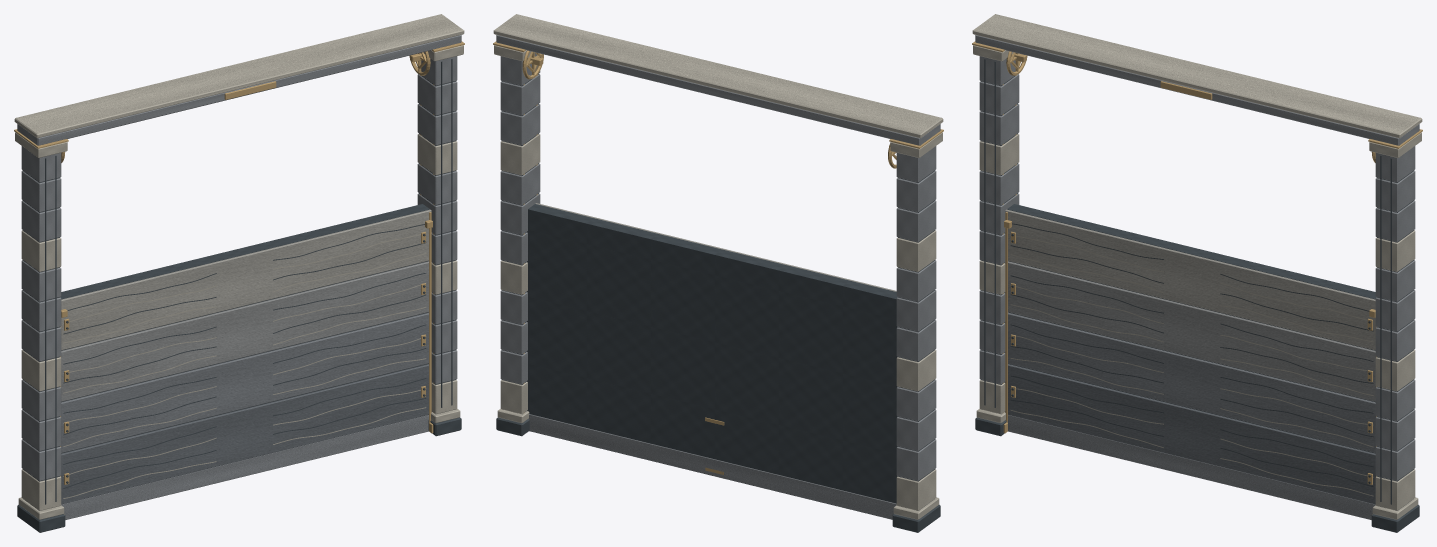
File: chronicle-portal-v01.glb
3 views of the same model, side by side, from view 1: azimuth 30°, elevation 25°; view 2: azimuth 150°, elevation 25°; view 3: azimuth 330°, elevation 25° (orthographic).
Parts seen in each view (by area): view 1: Dressed pier course.025, Dressed pier course.024, Sedimentary layer 1.001, Sedimentary layer 2.001, Sedimentary layer 0.001, Sedimentary layer 3.001, Carved sediment ribbon.034, Grounded lower sill.001, Attached carved vertical flute.004, Carved sediment ribbon.032, Capital bronze lip.002, Hoist cable anchor.002; view 2: Carved sediment ribbon.034, Dressed pier course.025, Dressed pier course.024, Grounded lower sill.001, Attached carved vertical flute.004, Capital bronze lip.002, Sedimentary layer 3.001; view 3: Dressed pier course.025, Dressed pier course.024, Sedimentary layer 1.001, Sedimentary layer 2.001, Sedimentary layer 0.001, Sedimentary layer 3.001, Carved sediment ribbon.034, Grounded lower sill.001, Attached carved vertical flute.004, Carved sediment ribbon.032, Capital bronze lip.002, Hoist cable anchor.002.
Boxes of the visible parts, x1=… form: Dressed pier course.025: x1=17, y1=35, x2=461, y2=480; Dressed pier course.024: x1=14, y1=14, x2=464, y2=519; Sedimentary layer 1.001: x1=61, y1=312, x2=432, y2=452; Sedimentary layer 2.001: x1=61, y1=261, x2=432, y2=401; Sedimentary layer 0.001: x1=61, y1=364, x2=431, y2=504; Sedimentary layer 3.001: x1=61, y1=209, x2=431, y2=350; Carved sediment ribbon.034: x1=60, y1=204, x2=429, y2=488; Grounded lower sill.001: x1=61, y1=415, x2=428, y2=519; Attached carved vertical flute.004: x1=17, y1=59, x2=461, y2=532; Carved sediment ribbon.032: x1=63, y1=233, x2=426, y2=498; Capital bronze lip.002: x1=14, y1=41, x2=464, y2=514; Hoist cable anchor.002: x1=60, y1=212, x2=432, y2=484; Carved sediment ribbon.034: x1=527, y1=204, x2=897, y2=519; Dressed pier course.025: x1=496, y1=35, x2=940, y2=480; Dressed pier course.024: x1=493, y1=14, x2=943, y2=519; Grounded lower sill.001: x1=528, y1=414, x2=896, y2=519; Attached carved vertical flute.004: x1=496, y1=74, x2=940, y2=532; Capital bronze lip.002: x1=493, y1=41, x2=943, y2=412; Sedimentary layer 3.001: x1=535, y1=203, x2=896, y2=291; Dressed pier course.025: x1=975, y1=35, x2=1419, y2=480; Dressed pier course.024: x1=972, y1=14, x2=1422, y2=519; Sedimentary layer 1.001: x1=1004, y1=312, x2=1375, y2=452; Sedimentary layer 2.001: x1=1004, y1=261, x2=1375, y2=401; Sedimentary layer 0.001: x1=1005, y1=364, x2=1375, y2=504; Sedimentary layer 3.001: x1=1005, y1=209, x2=1375, y2=350; Carved sediment ribbon.034: x1=1007, y1=204, x2=1376, y2=486; Grounded lower sill.001: x1=1008, y1=415, x2=1375, y2=519; Attached carved vertical flute.004: x1=975, y1=59, x2=1419, y2=532; Carved sediment ribbon.032: x1=1010, y1=235, x2=1373, y2=496; Capital bronze lip.002: x1=972, y1=41, x2=1422, y2=514; Hoist cable anchor.002: x1=1004, y1=212, x2=1376, y2=484.
Size of the model in its own units: 10.02 by 8.95 by 0.99.
Materials: 8 (7 with a texture image).
